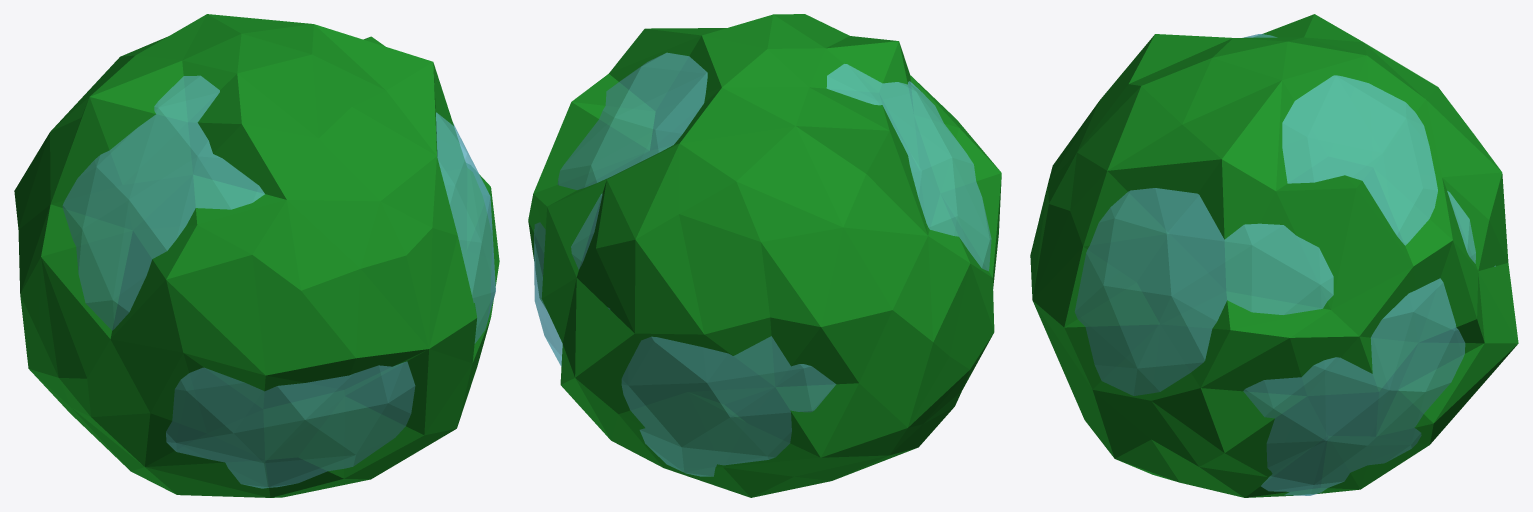
Rendered from earth_like_planet1.fbx.
The picture shows the model from 3 angles, left to right: view 1: azimuth 30°, elevation 25°; view 2: azimuth 150°, elevation 25°; view 3: azimuth 270°, elevation 25°; orthographic projection.
Visible parts, largest first — view 1: earth_like_planet1; view 2: earth_like_planet1; view 3: earth_like_planet1.
Part boxes in pixels (x1,y1,x2,y2): earth_like_planet1: (14,14,499,497); earth_like_planet1: (528,14,1001,497); earth_like_planet1: (1030,14,1518,497).
Size of the model in its own units: 203 by 193 by 200.
